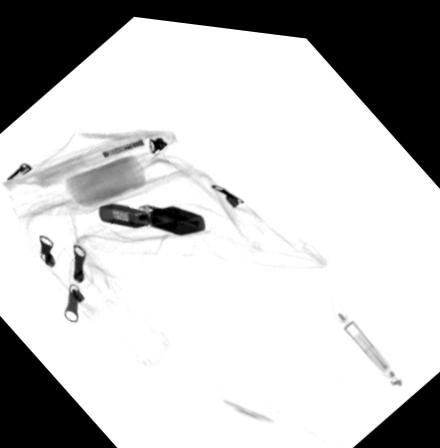Lighter: (98, 200, 205, 232)
